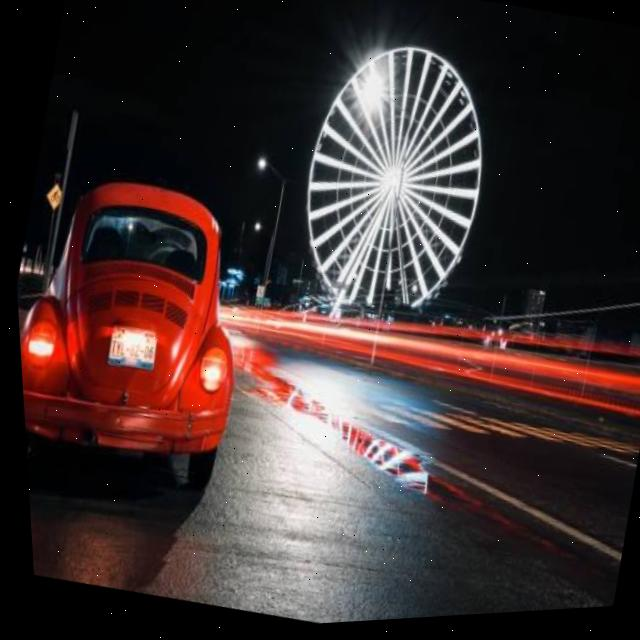vehicle: (8, 153, 270, 504)
